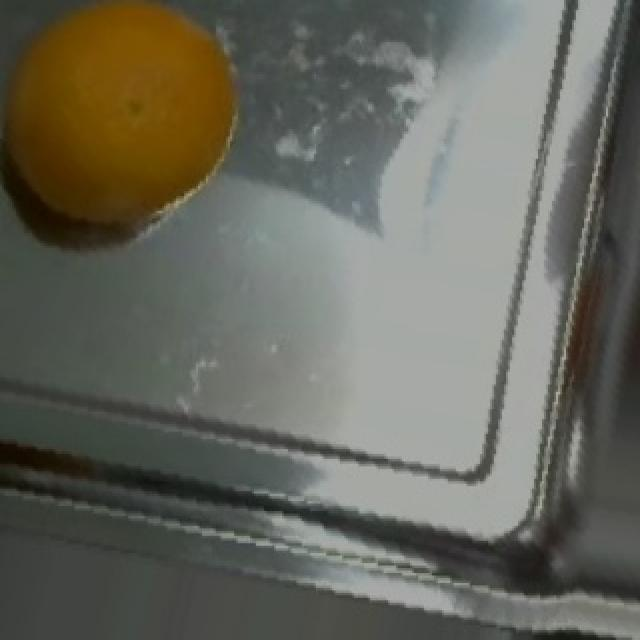Fruit: (0, 2, 266, 260)
